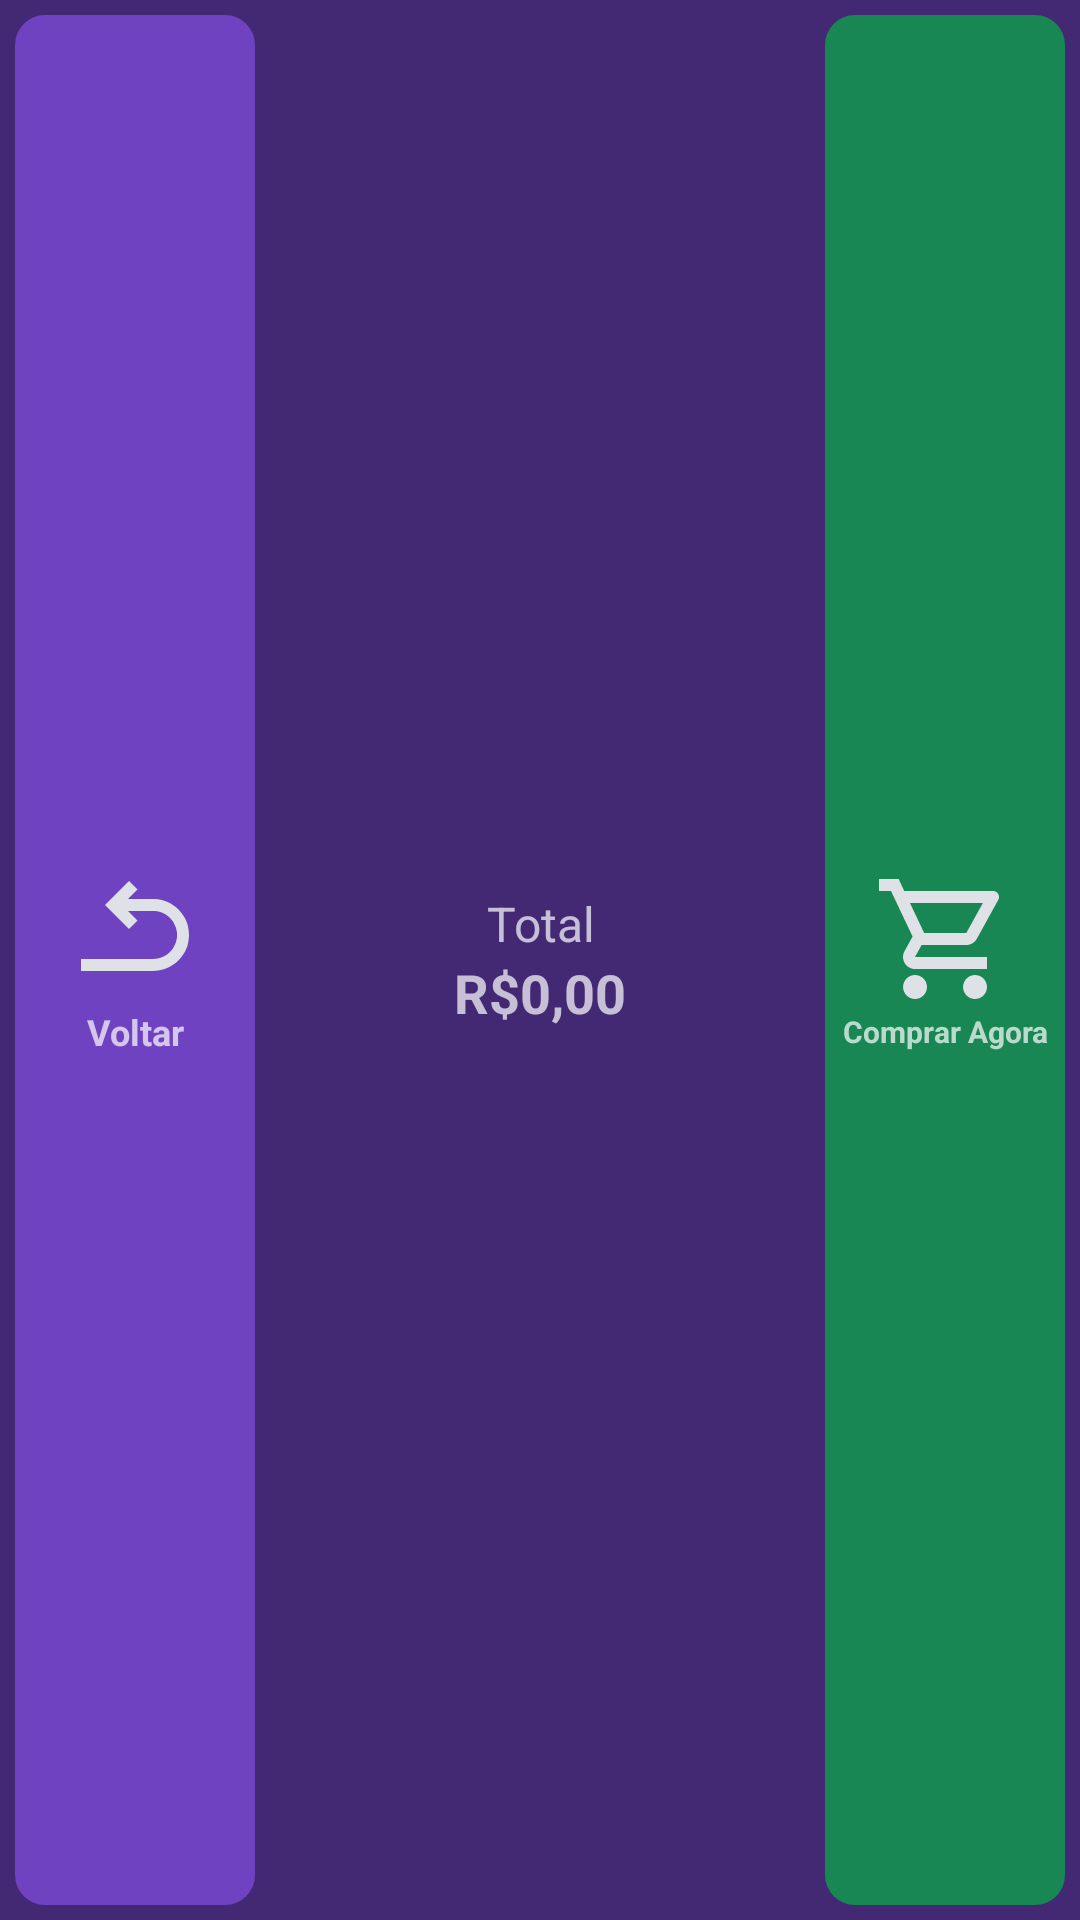

Where to tap for icons on this 1080 × 1920 app screen, as point (x, y):
shopping cart: point (939, 939)
